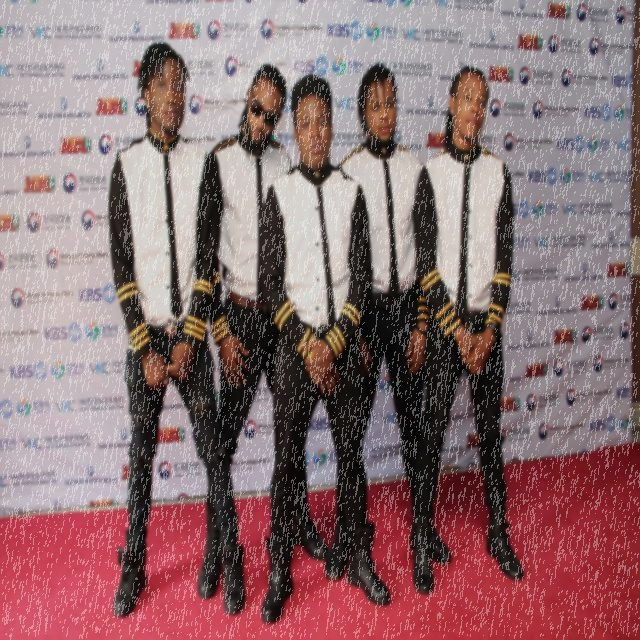pessoa: (106, 40, 246, 617), (259, 74, 392, 624), (197, 64, 328, 594), (322, 59, 453, 581), (412, 64, 526, 596)
